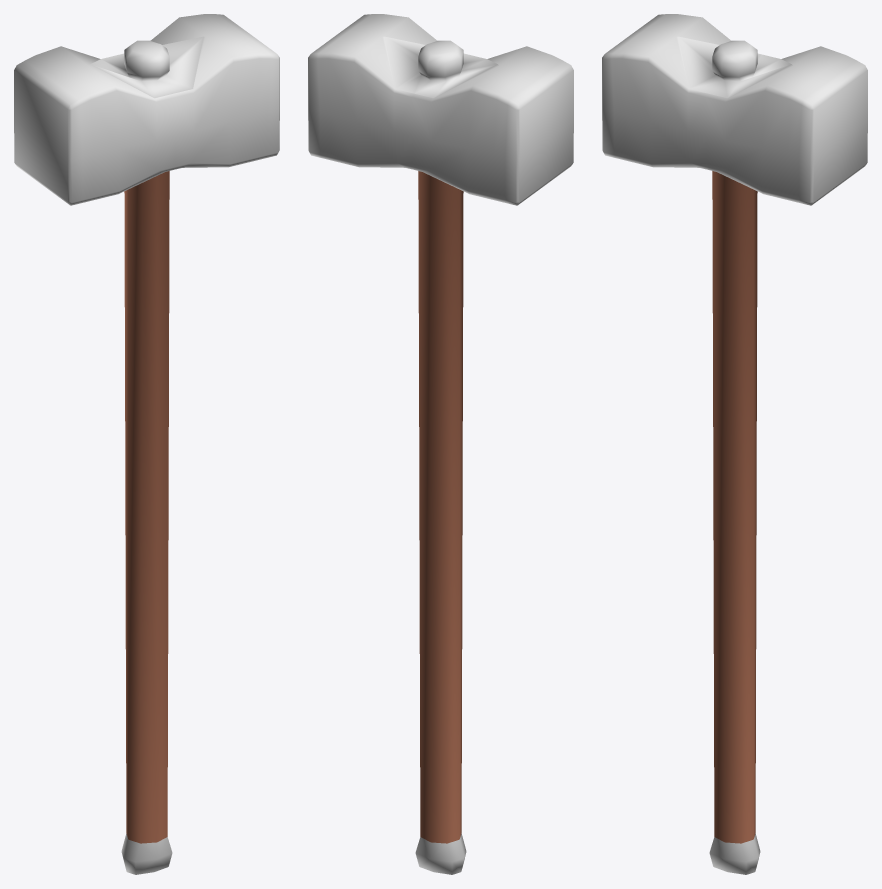
Rendered from Hammer Heavy.fbx.
The picture shows the model from 3 angles, left to right: view 1: azimuth 30°, elevation 25°; view 2: azimuth 150°, elevation 25°; view 3: azimuth 330°, elevation 25°; orthographic projection.
Visible parts, largest first — view 1: Warhammer.004; view 2: Warhammer.004; view 3: Warhammer.004.
Part boxes in pixels (x1=…): Warhammer.004: x1=14, y1=14, x2=279, y2=874; Warhammer.004: x1=308, y1=14, x2=573, y2=874; Warhammer.004: x1=602, y1=14, x2=867, y2=874.
Size of the model in its own units: 35.95 by 133 by 16.61.
